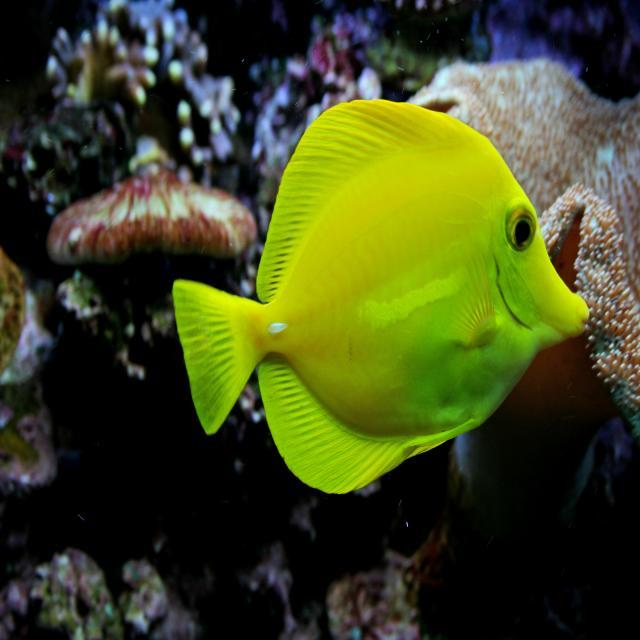YellowTang: (155, 76, 600, 505)
